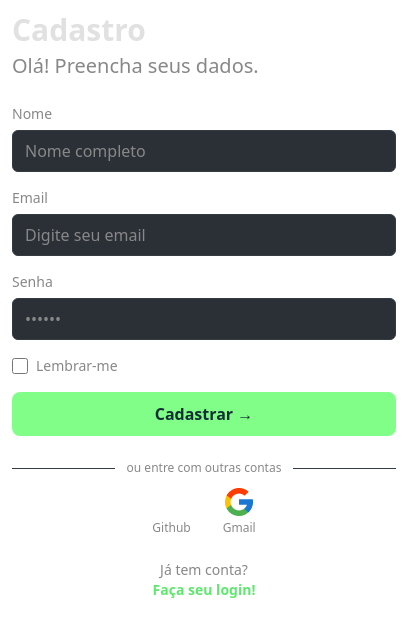
Test case: RegisterForm › bloqueia o envio quando a senha tem menos de 8 caracteres
This screenshot has width=415, height=637.
Type "Rodrigo Alvarez" into the field labelled "Nome" at (204, 151), box [12,130,396,172]
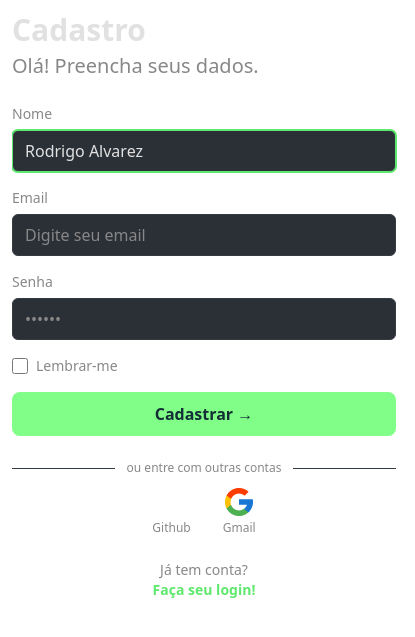
Type "rodrigo@code.com" into the field labelled "Email" at (204, 235), box [12,214,396,256]
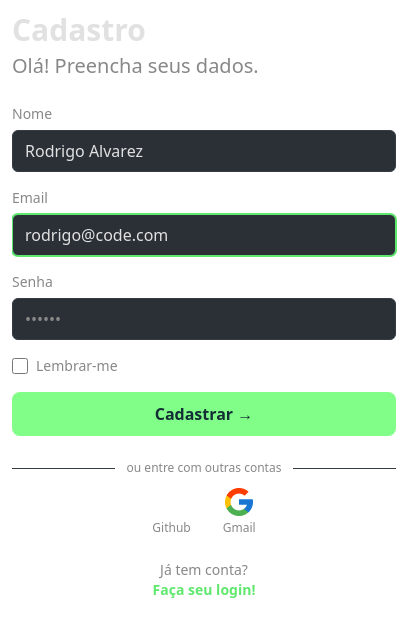
Type "curta" into the password field labelled "Senha" at (204, 319), box [12,298,396,340]
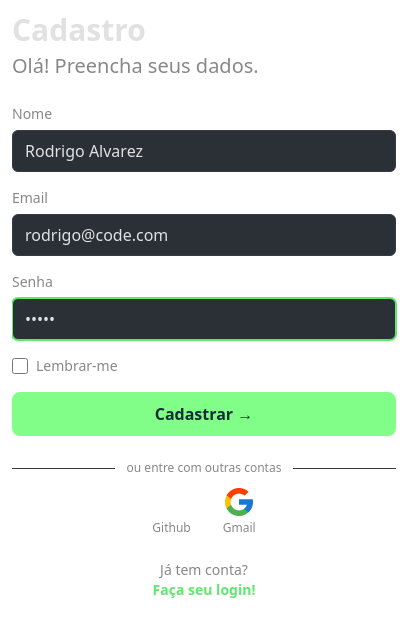
Click the button "Cadastrar →" at (204, 414), box [12,392,396,436]
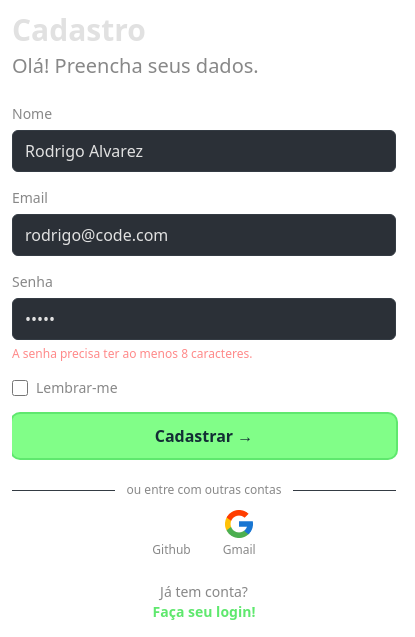
Expected: the text "A senha precisa ter ao menos 8 caracteres." is shown, [12,345,252,362]
